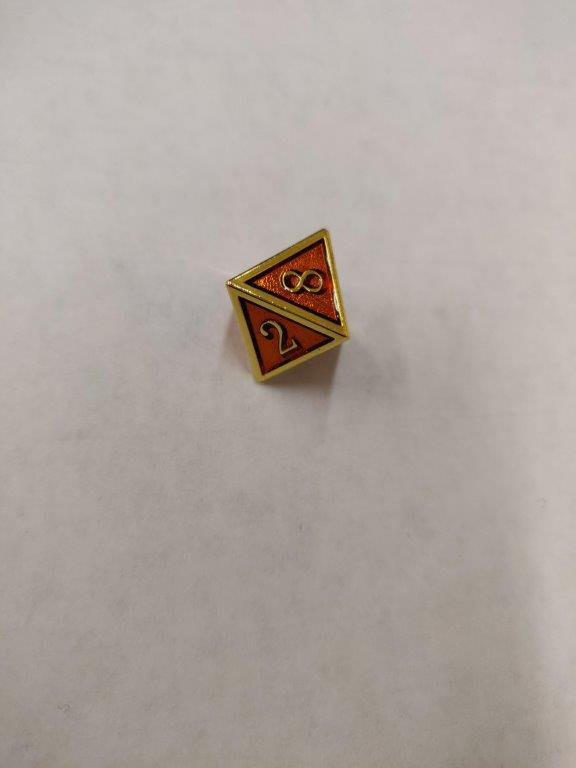d8-8: (226, 227, 350, 383)
